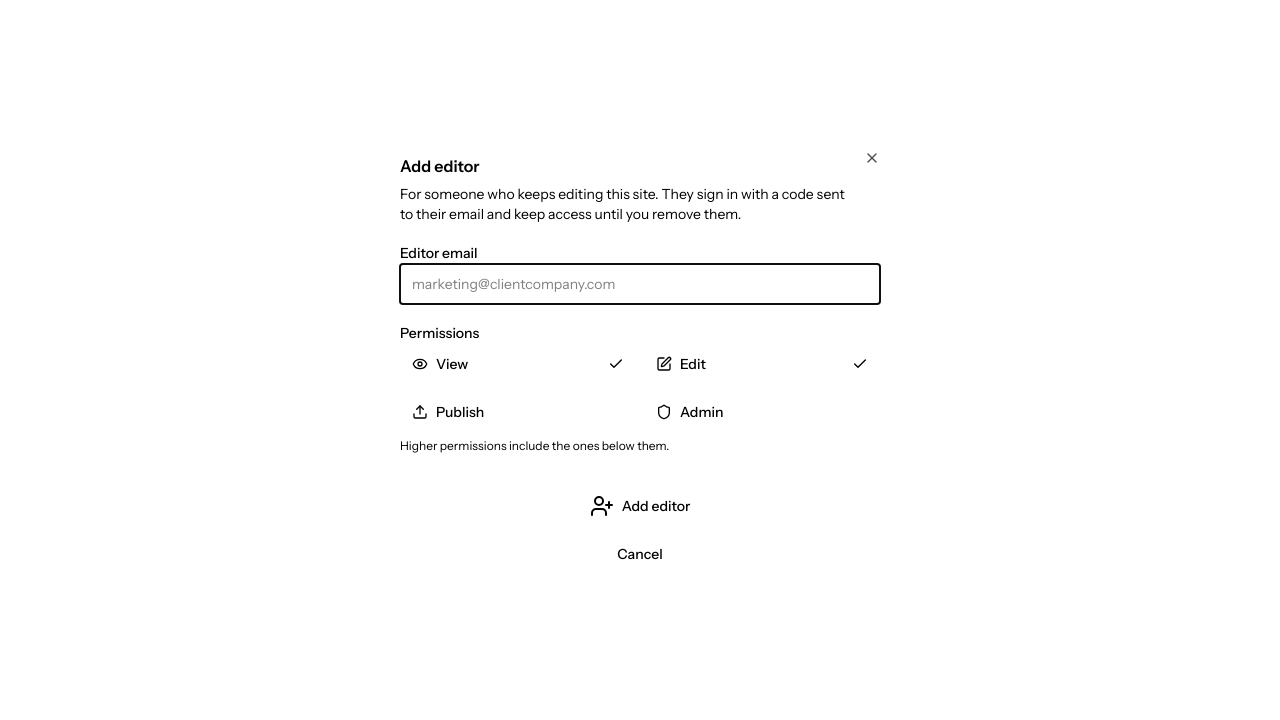
AddEditorDialog › renders a seat-limit refusal as a billing matter, not a malfunction
The width and height of the screenshot is (1280, 720).
Type "grace@clientcompany.com" into the field labelled "Editor email" at (640, 284), box left=400, top=264, right=880, bottom=304
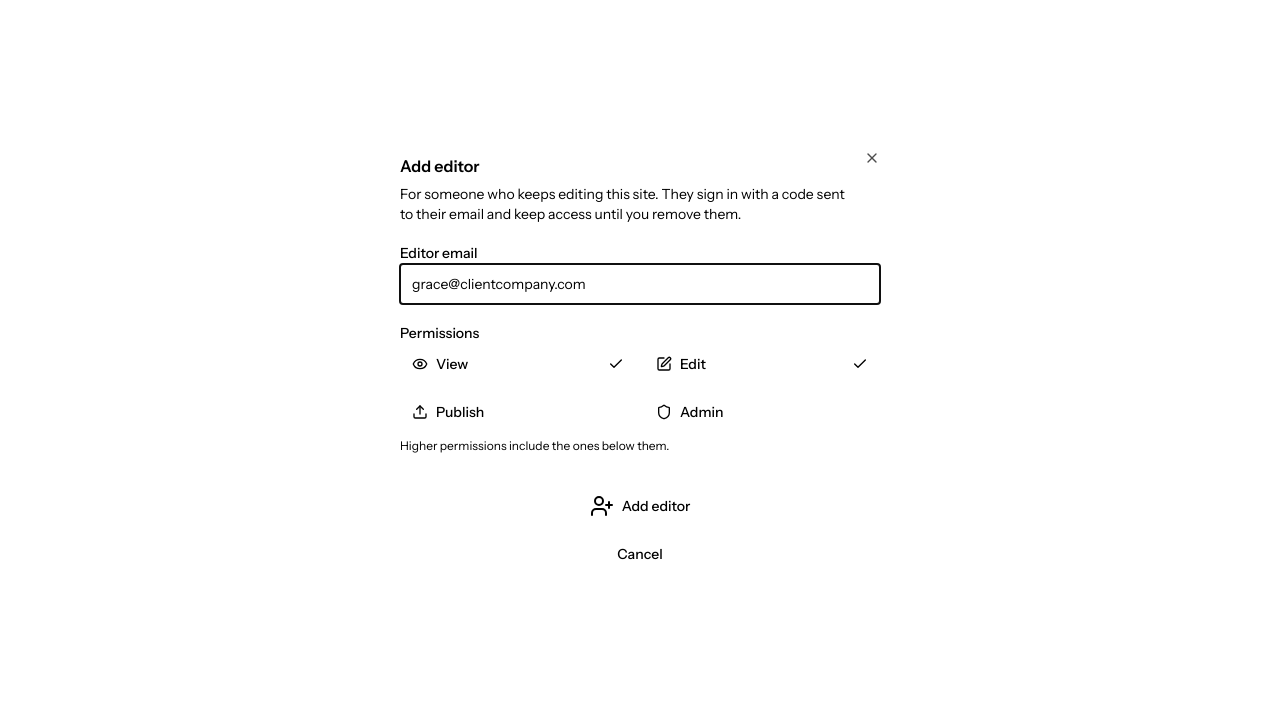
Click the button "Add editor" at (640, 506), box left=400, top=486, right=880, bottom=526
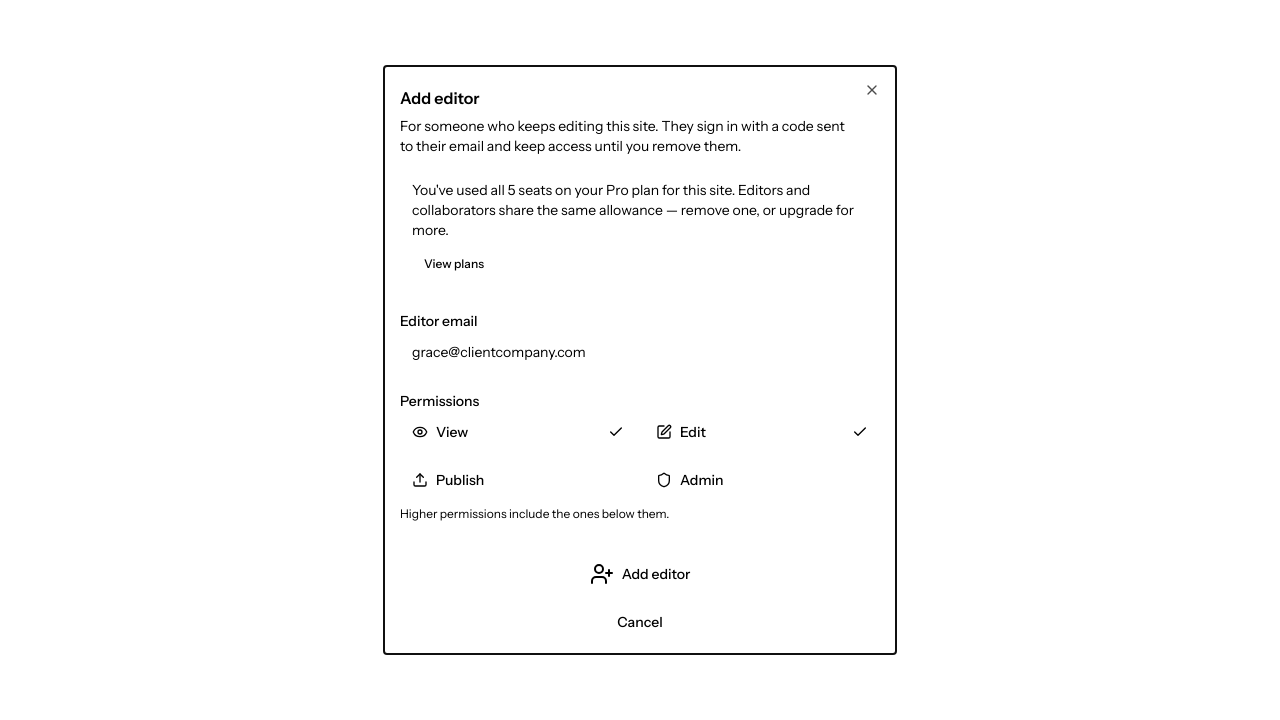
expect the message shows "all 5 seats on your Pro plan": met, box left=412, top=181, right=854, bottom=239
